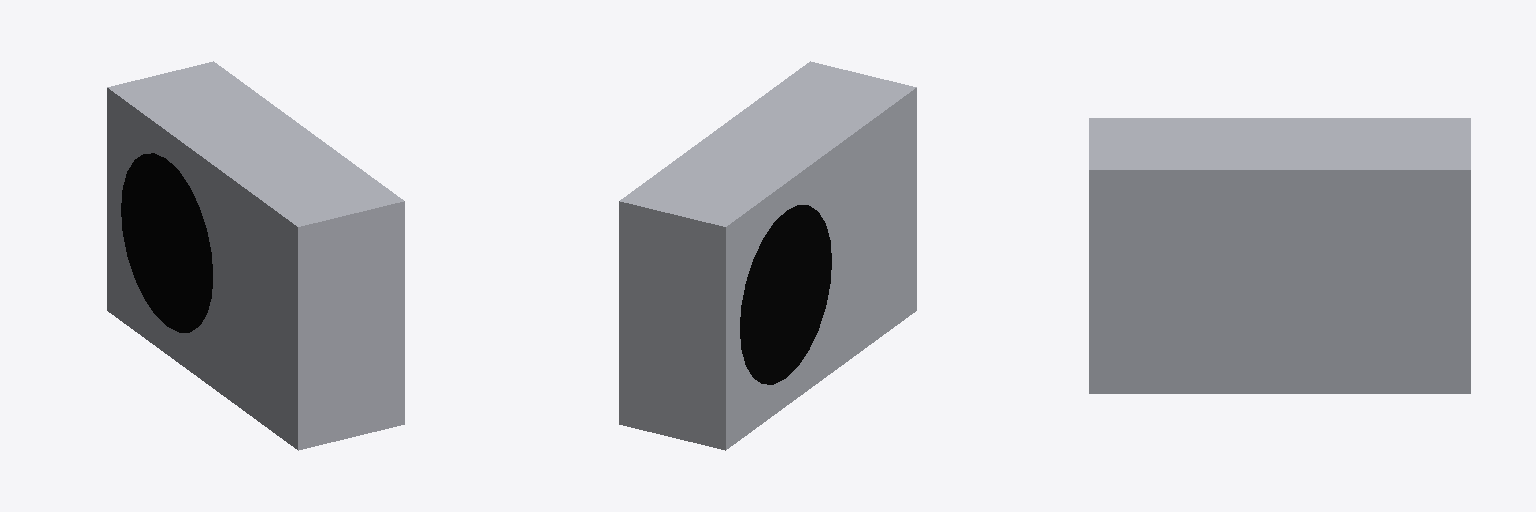
3 views of the same model, side by side, from view 1: azimuth 30°, elevation 25°; view 2: azimuth 150°, elevation 25°; view 3: azimuth 270°, elevation 25° (orthographic).
Parts seen in each view (by area): view 1: G-__556212_G-__556212_Metal, G-__556212_G-__556212_Roof; view 2: G-__556212_G-__556212_Metal, G-__556212_G-__556212_Roof; view 3: G-__556212_G-__556212_Metal.
Boxes of the visible parts, x1,y1,x2,y2 form: G-__556212_G-__556212_Metal: [107, 61, 404, 450]; G-__556212_G-__556212_Roof: [121, 153, 212, 332]; G-__556212_G-__556212_Metal: [619, 61, 916, 450]; G-__556212_G-__556212_Roof: [740, 205, 831, 384]; G-__556212_G-__556212_Metal: [1089, 118, 1470, 393].
Bounding box in the file's own units: 0.1 × 0.2 × 0.31.